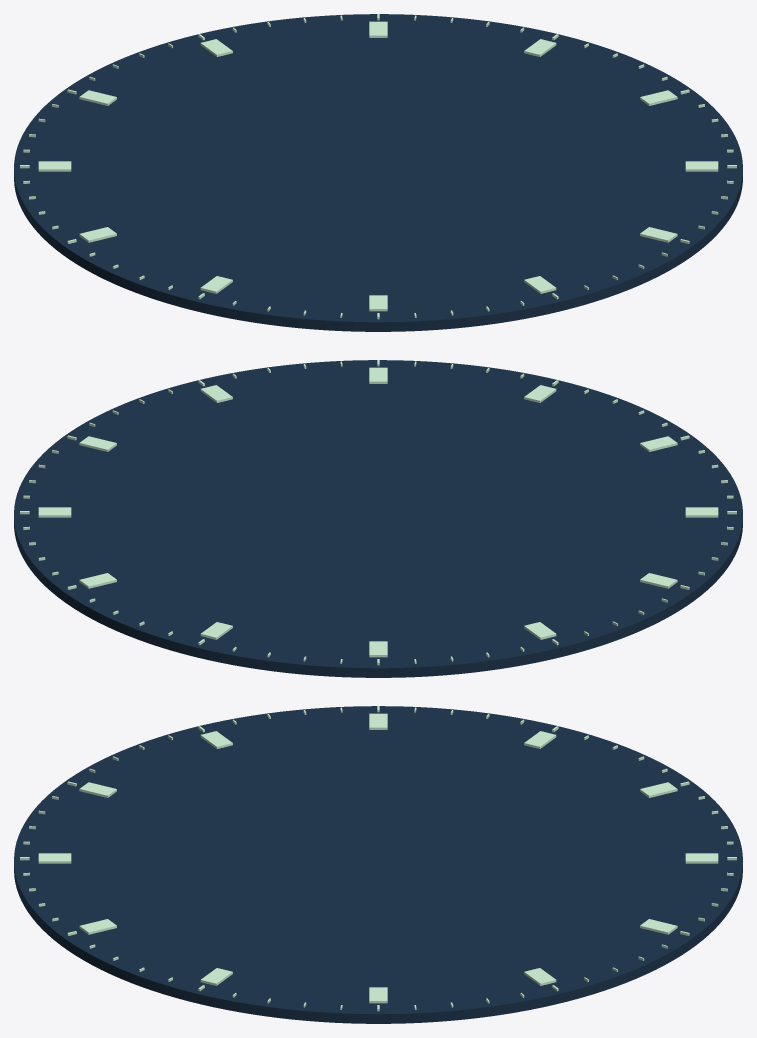
Rendered from dial-diver-285.glb.
The picture shows the model from 3 angles, top to bottom: view 1: azimuth 30°, elevation 25°; view 2: azimuth 150°, elevation 25°; view 3: azimuth 270°, elevation 25°; orthographic projection.
Parts seen in each view (by area): view 1: DD_DIAL_SUBSTRATE; view 2: DD_DIAL_SUBSTRATE; view 3: DD_DIAL_SUBSTRATE.
Boxes of the visible parts, x1,y1,x2,y2 form: DD_DIAL_SUBSTRATE: (14,14,742,331); DD_DIAL_SUBSTRATE: (14,360,742,677); DD_DIAL_SUBSTRATE: (14,706,742,1023).
Size of the model in its own units: 28.5 by 0.54 by 28.5.
